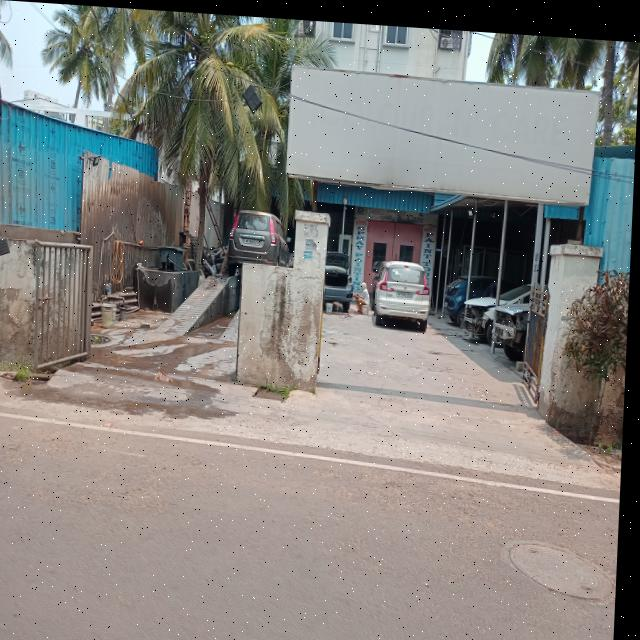car: (379, 255, 437, 325), (229, 204, 289, 268), (445, 260, 490, 322), (327, 237, 358, 316)
